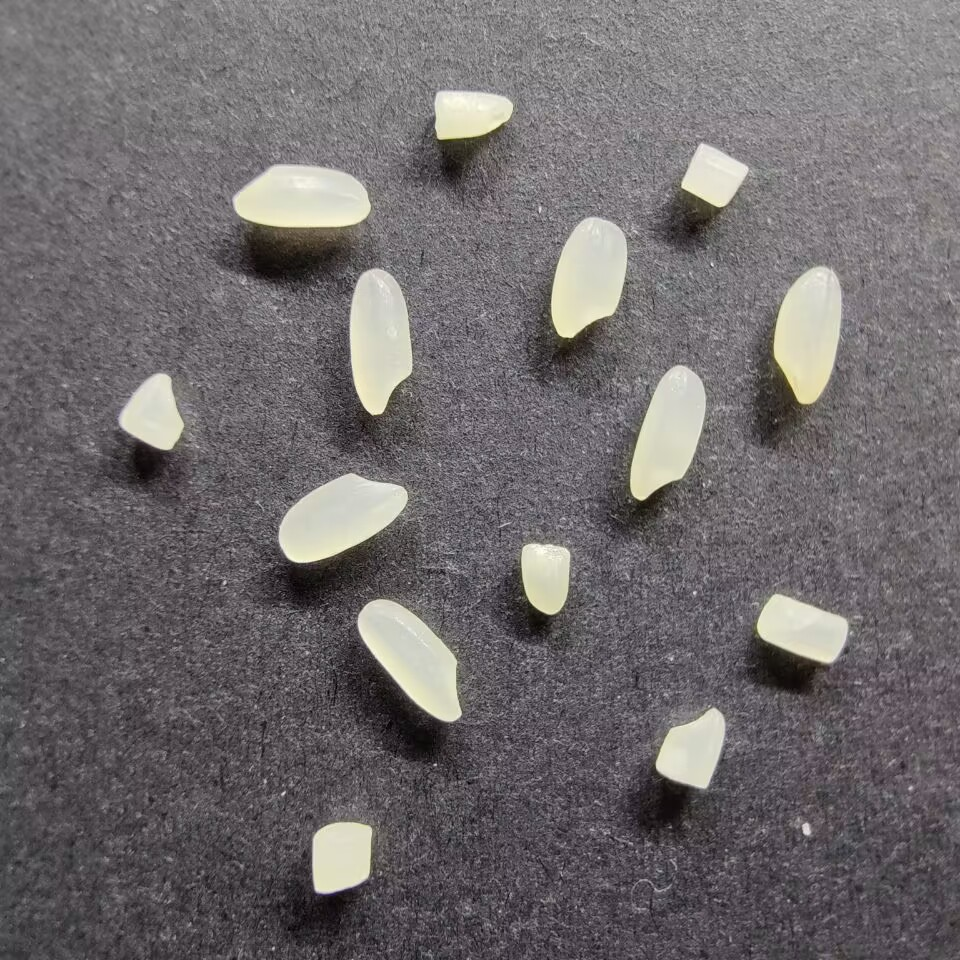broken: (754, 591, 851, 666), (652, 706, 729, 793), (115, 371, 188, 453), (308, 820, 376, 898), (679, 136, 752, 208), (515, 540, 577, 617), (428, 88, 516, 141)
rice: (355, 597, 463, 724), (276, 470, 407, 564), (627, 363, 707, 501), (346, 266, 417, 417), (770, 264, 844, 406), (548, 215, 629, 341), (229, 162, 369, 229)
